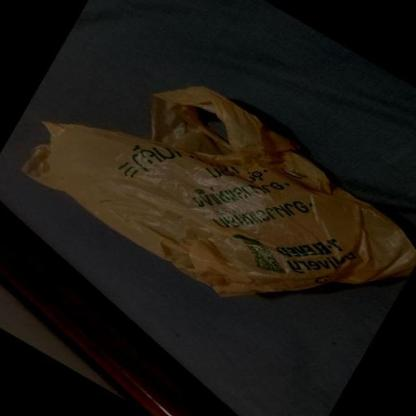Plastic Bag: (21, 84, 416, 298)
